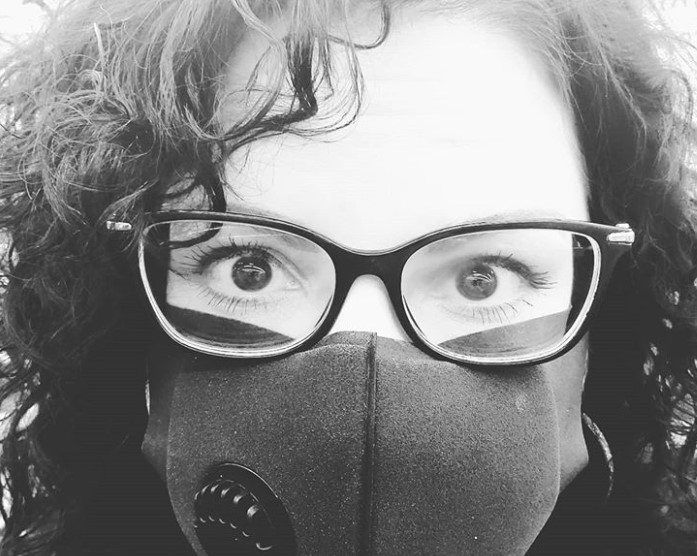face_with_mask: (78, 1, 658, 556)
